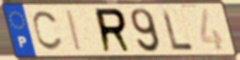4: (199, 7, 226, 52)
9: (129, 7, 161, 54)
C: (31, 9, 65, 53)
I: (65, 9, 84, 54)
L: (160, 8, 196, 53)
R: (93, 7, 134, 55)
